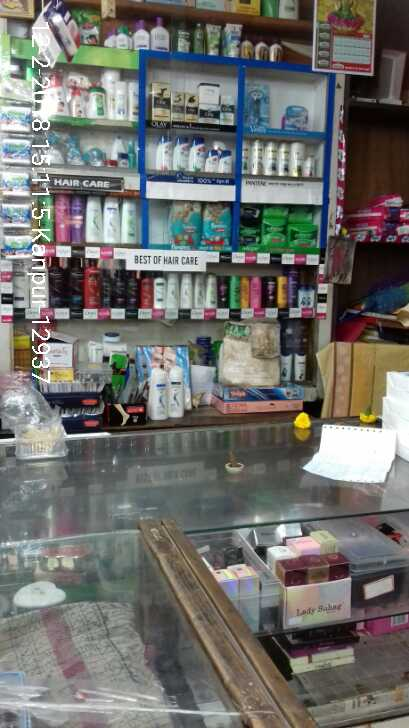venus: (246, 84, 269, 126), (285, 106, 307, 131)
